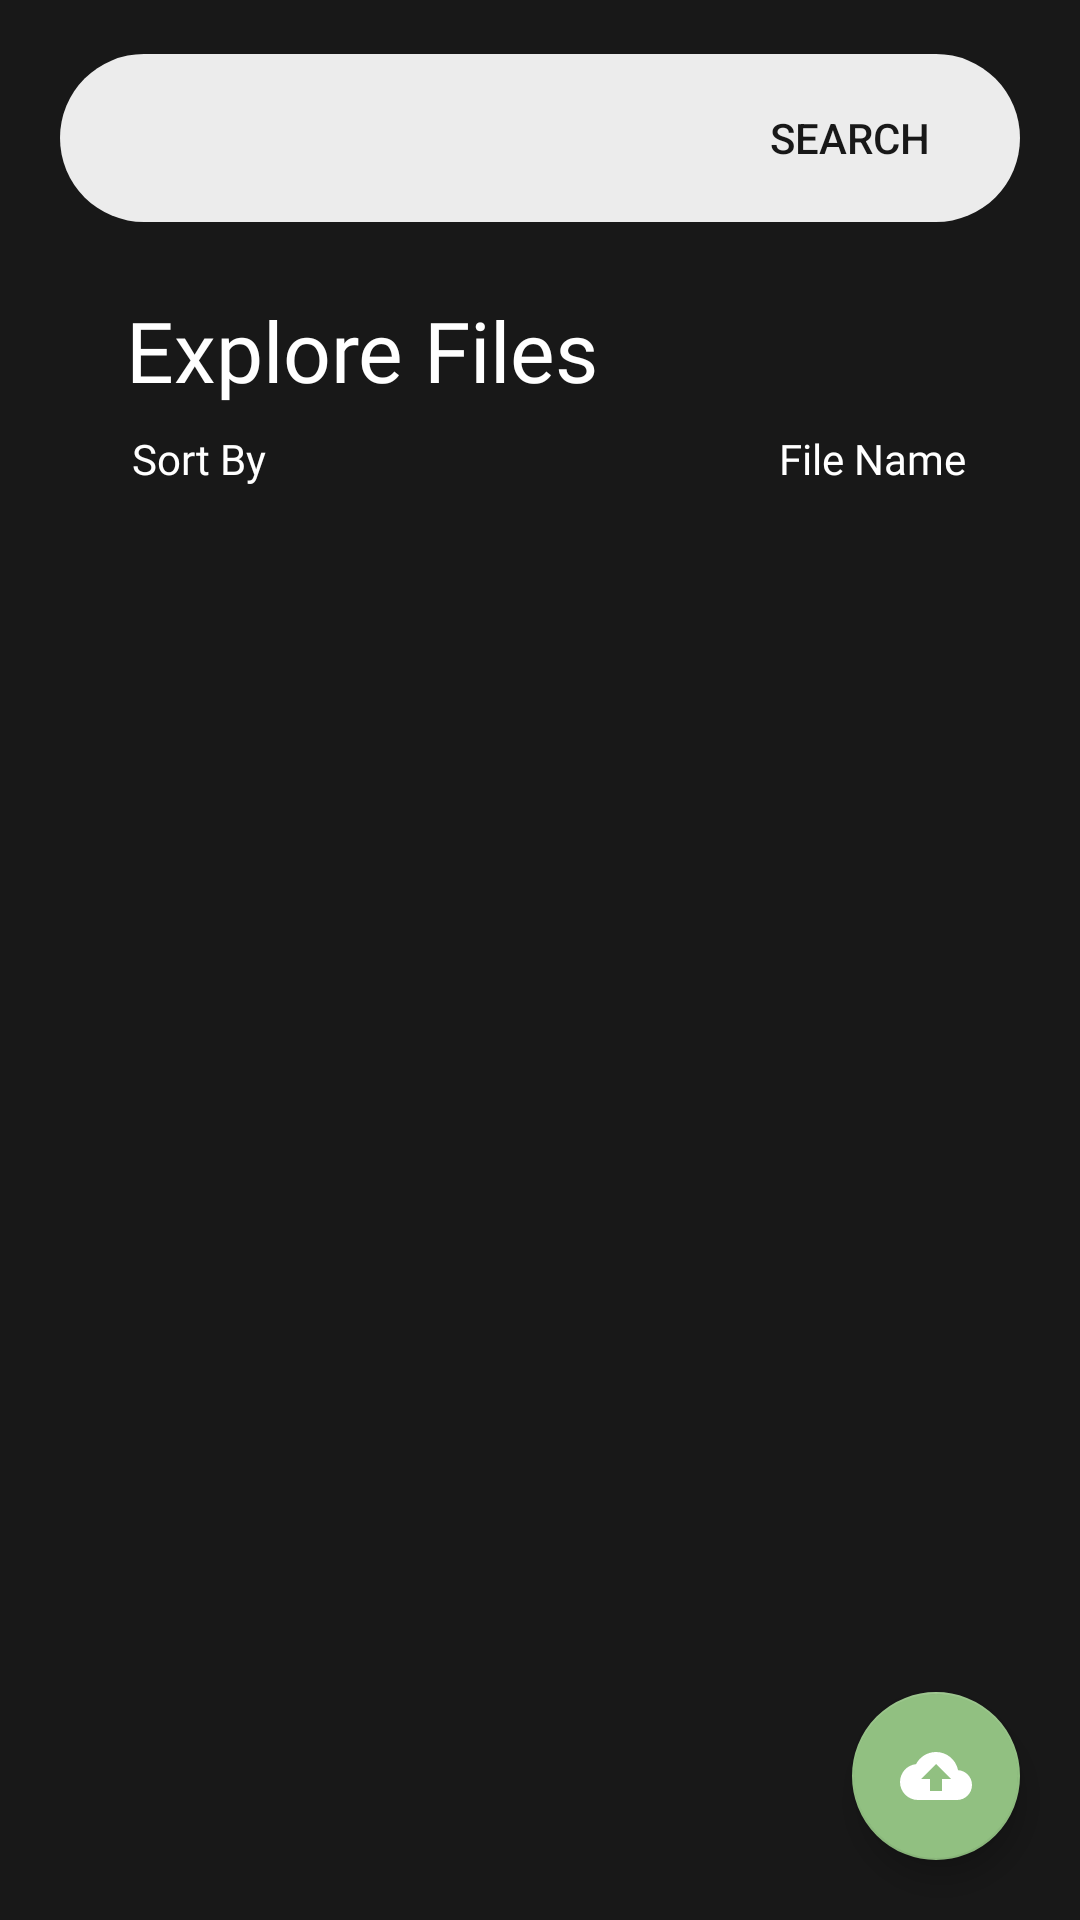

Locate icon controls on the screen. Image size 1080w x 1920h, boxes as (x1, y1, x2, y2).
cloud upload: (852, 1692, 1020, 1860)
